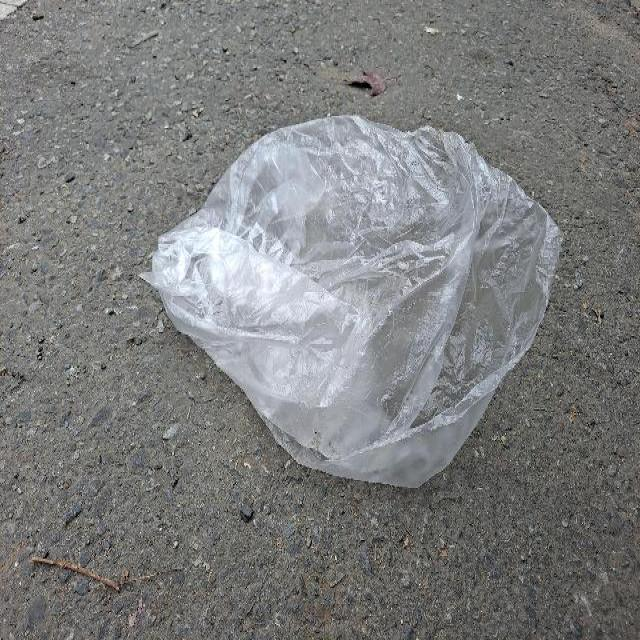plastic bag: (135, 112, 564, 494)
